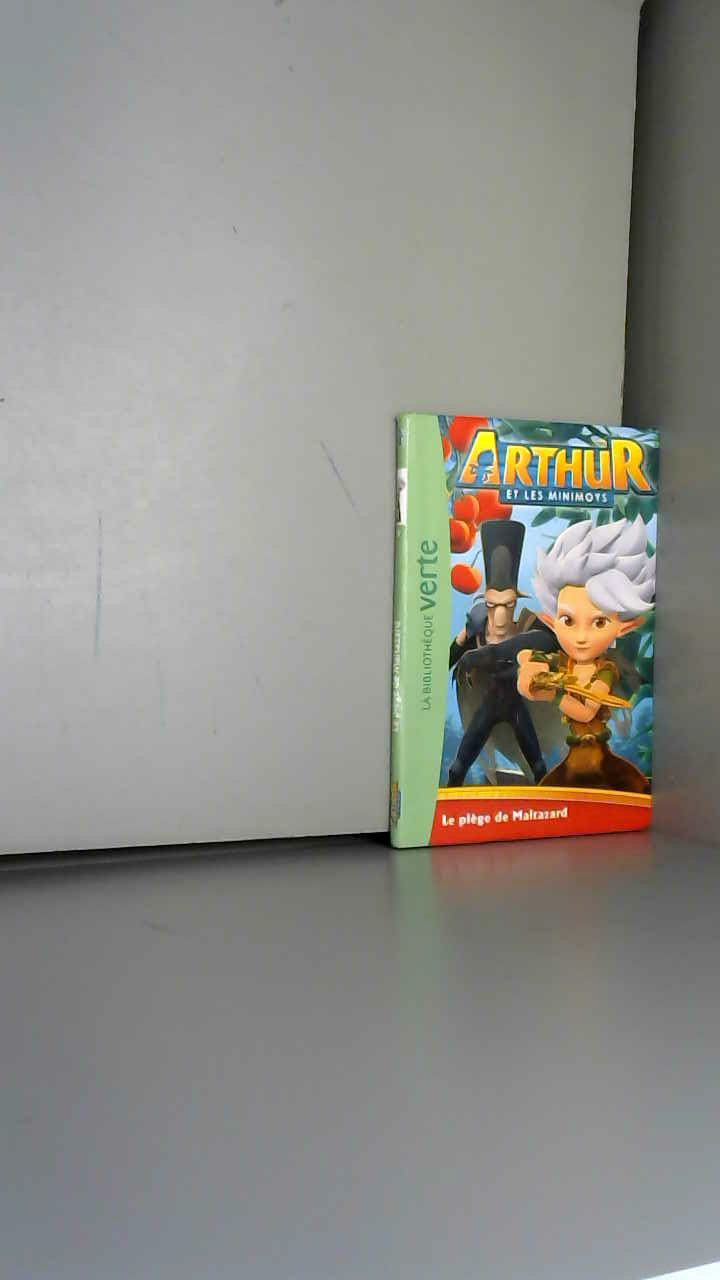book: (360, 390, 719, 874)
